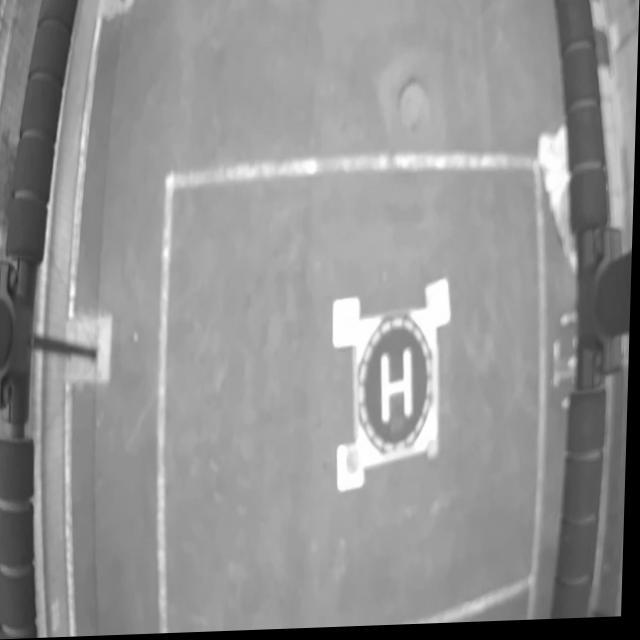Helipad: (382, 352, 415, 428)
